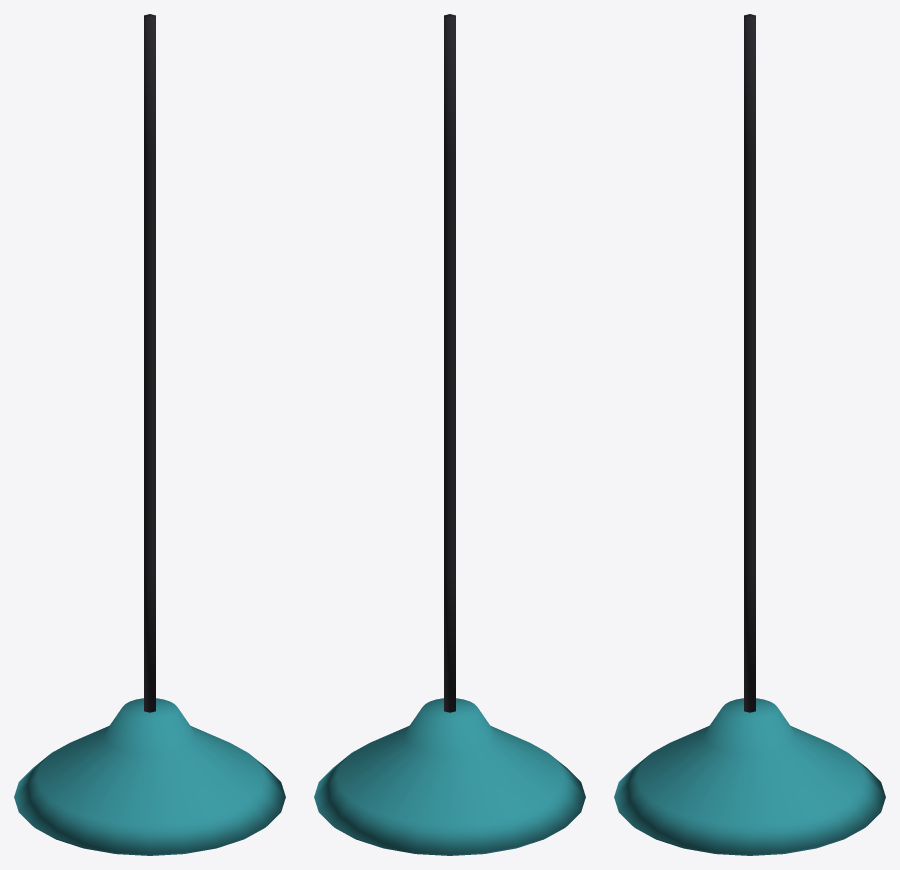
File: PendantLamp.fbx
The picture shows the model from 3 angles, left to right: view 1: azimuth 30°, elevation 25°; view 2: azimuth 150°, elevation 25°; view 3: azimuth 270°, elevation 25°; orthographic projection.
Parts seen in each view (by area): view 1: Prop_PendantLamp; view 2: Prop_PendantLamp; view 3: Prop_PendantLamp.
Part boxes in pixels (x1,y1,x2,y2): Prop_PendantLamp: [14, 14, 285, 855]; Prop_PendantLamp: [314, 14, 585, 855]; Prop_PendantLamp: [614, 14, 885, 855].
Size of the model in its own units: 0.48 by 1.62 by 0.48.
